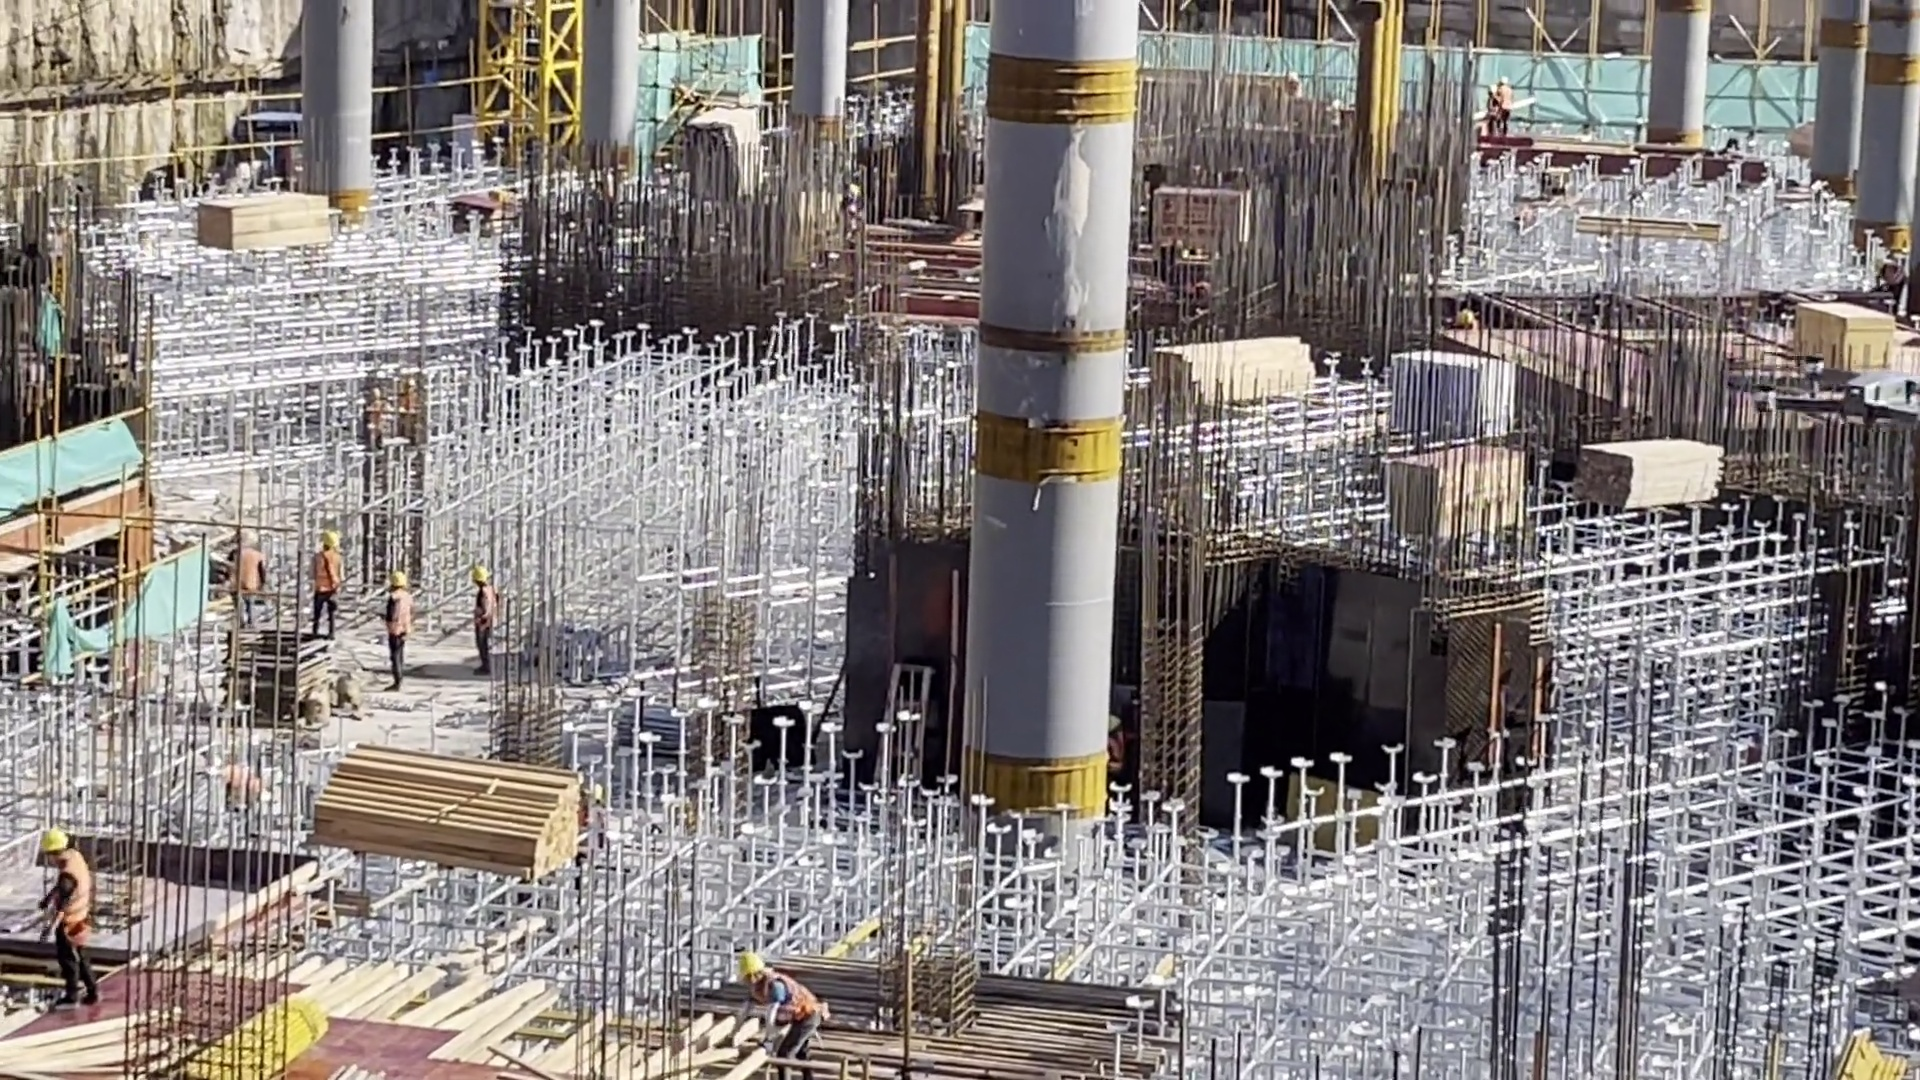helmet: (735, 952, 768, 985), (42, 828, 69, 855), (470, 565, 490, 583), (316, 532, 340, 547), (387, 571, 407, 587), (236, 530, 257, 543)
person: (731, 950, 829, 1080), (44, 814, 95, 1008), (377, 564, 412, 688), (226, 529, 266, 627), (311, 530, 346, 637), (467, 560, 497, 678), (1492, 79, 1516, 128)
vest: (46, 853, 91, 948), (227, 550, 264, 597), (312, 551, 339, 597), (387, 590, 413, 633), (472, 588, 493, 630)
